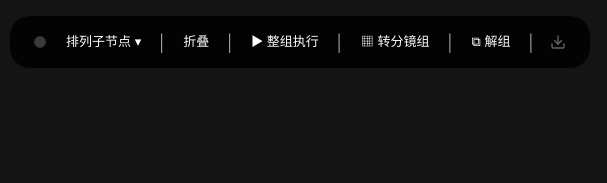
Test case: 排列子节点（§4.3 menu 规格） › 菜单 3 项（网格/水平/垂直）→ arrangeGroupChildren(groupId, mode)，选中即收起
Click the button "排列子节点 ▾". click: [104, 42]
box: [56, 26, 151, 58]
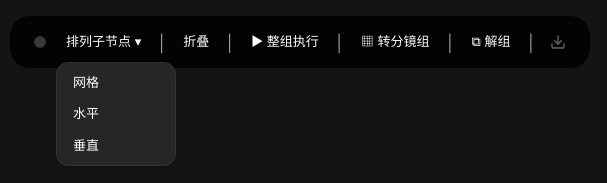
Now the menu items read "网格", "水平", "垂直", in this order
Click the menu item "水平". click: [116, 114]
box: [61, 98, 171, 130]
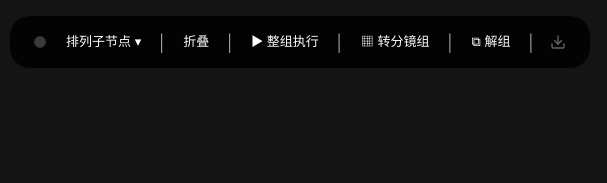
Now the menu is gone
